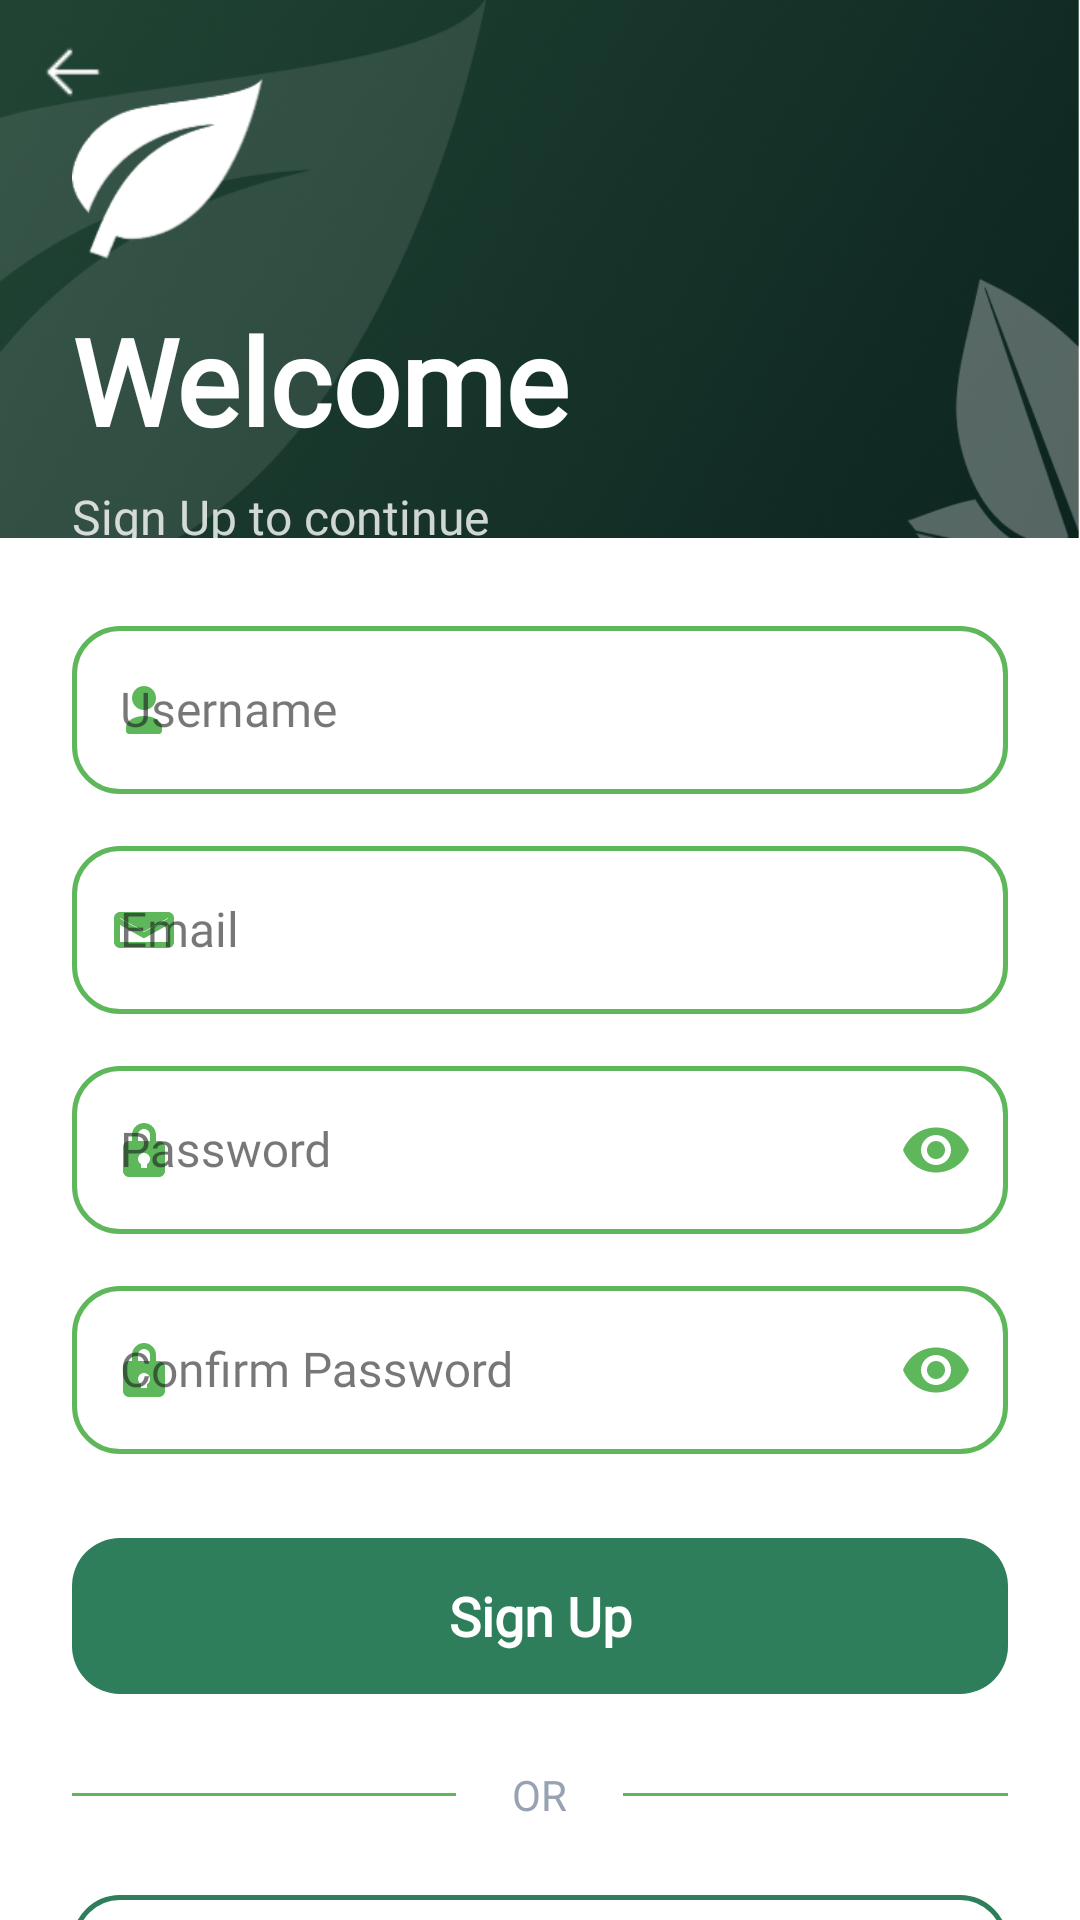

Screen size 1080x1920. Icon name, then its center in pixels as [x,y]:
back: [72,72]
